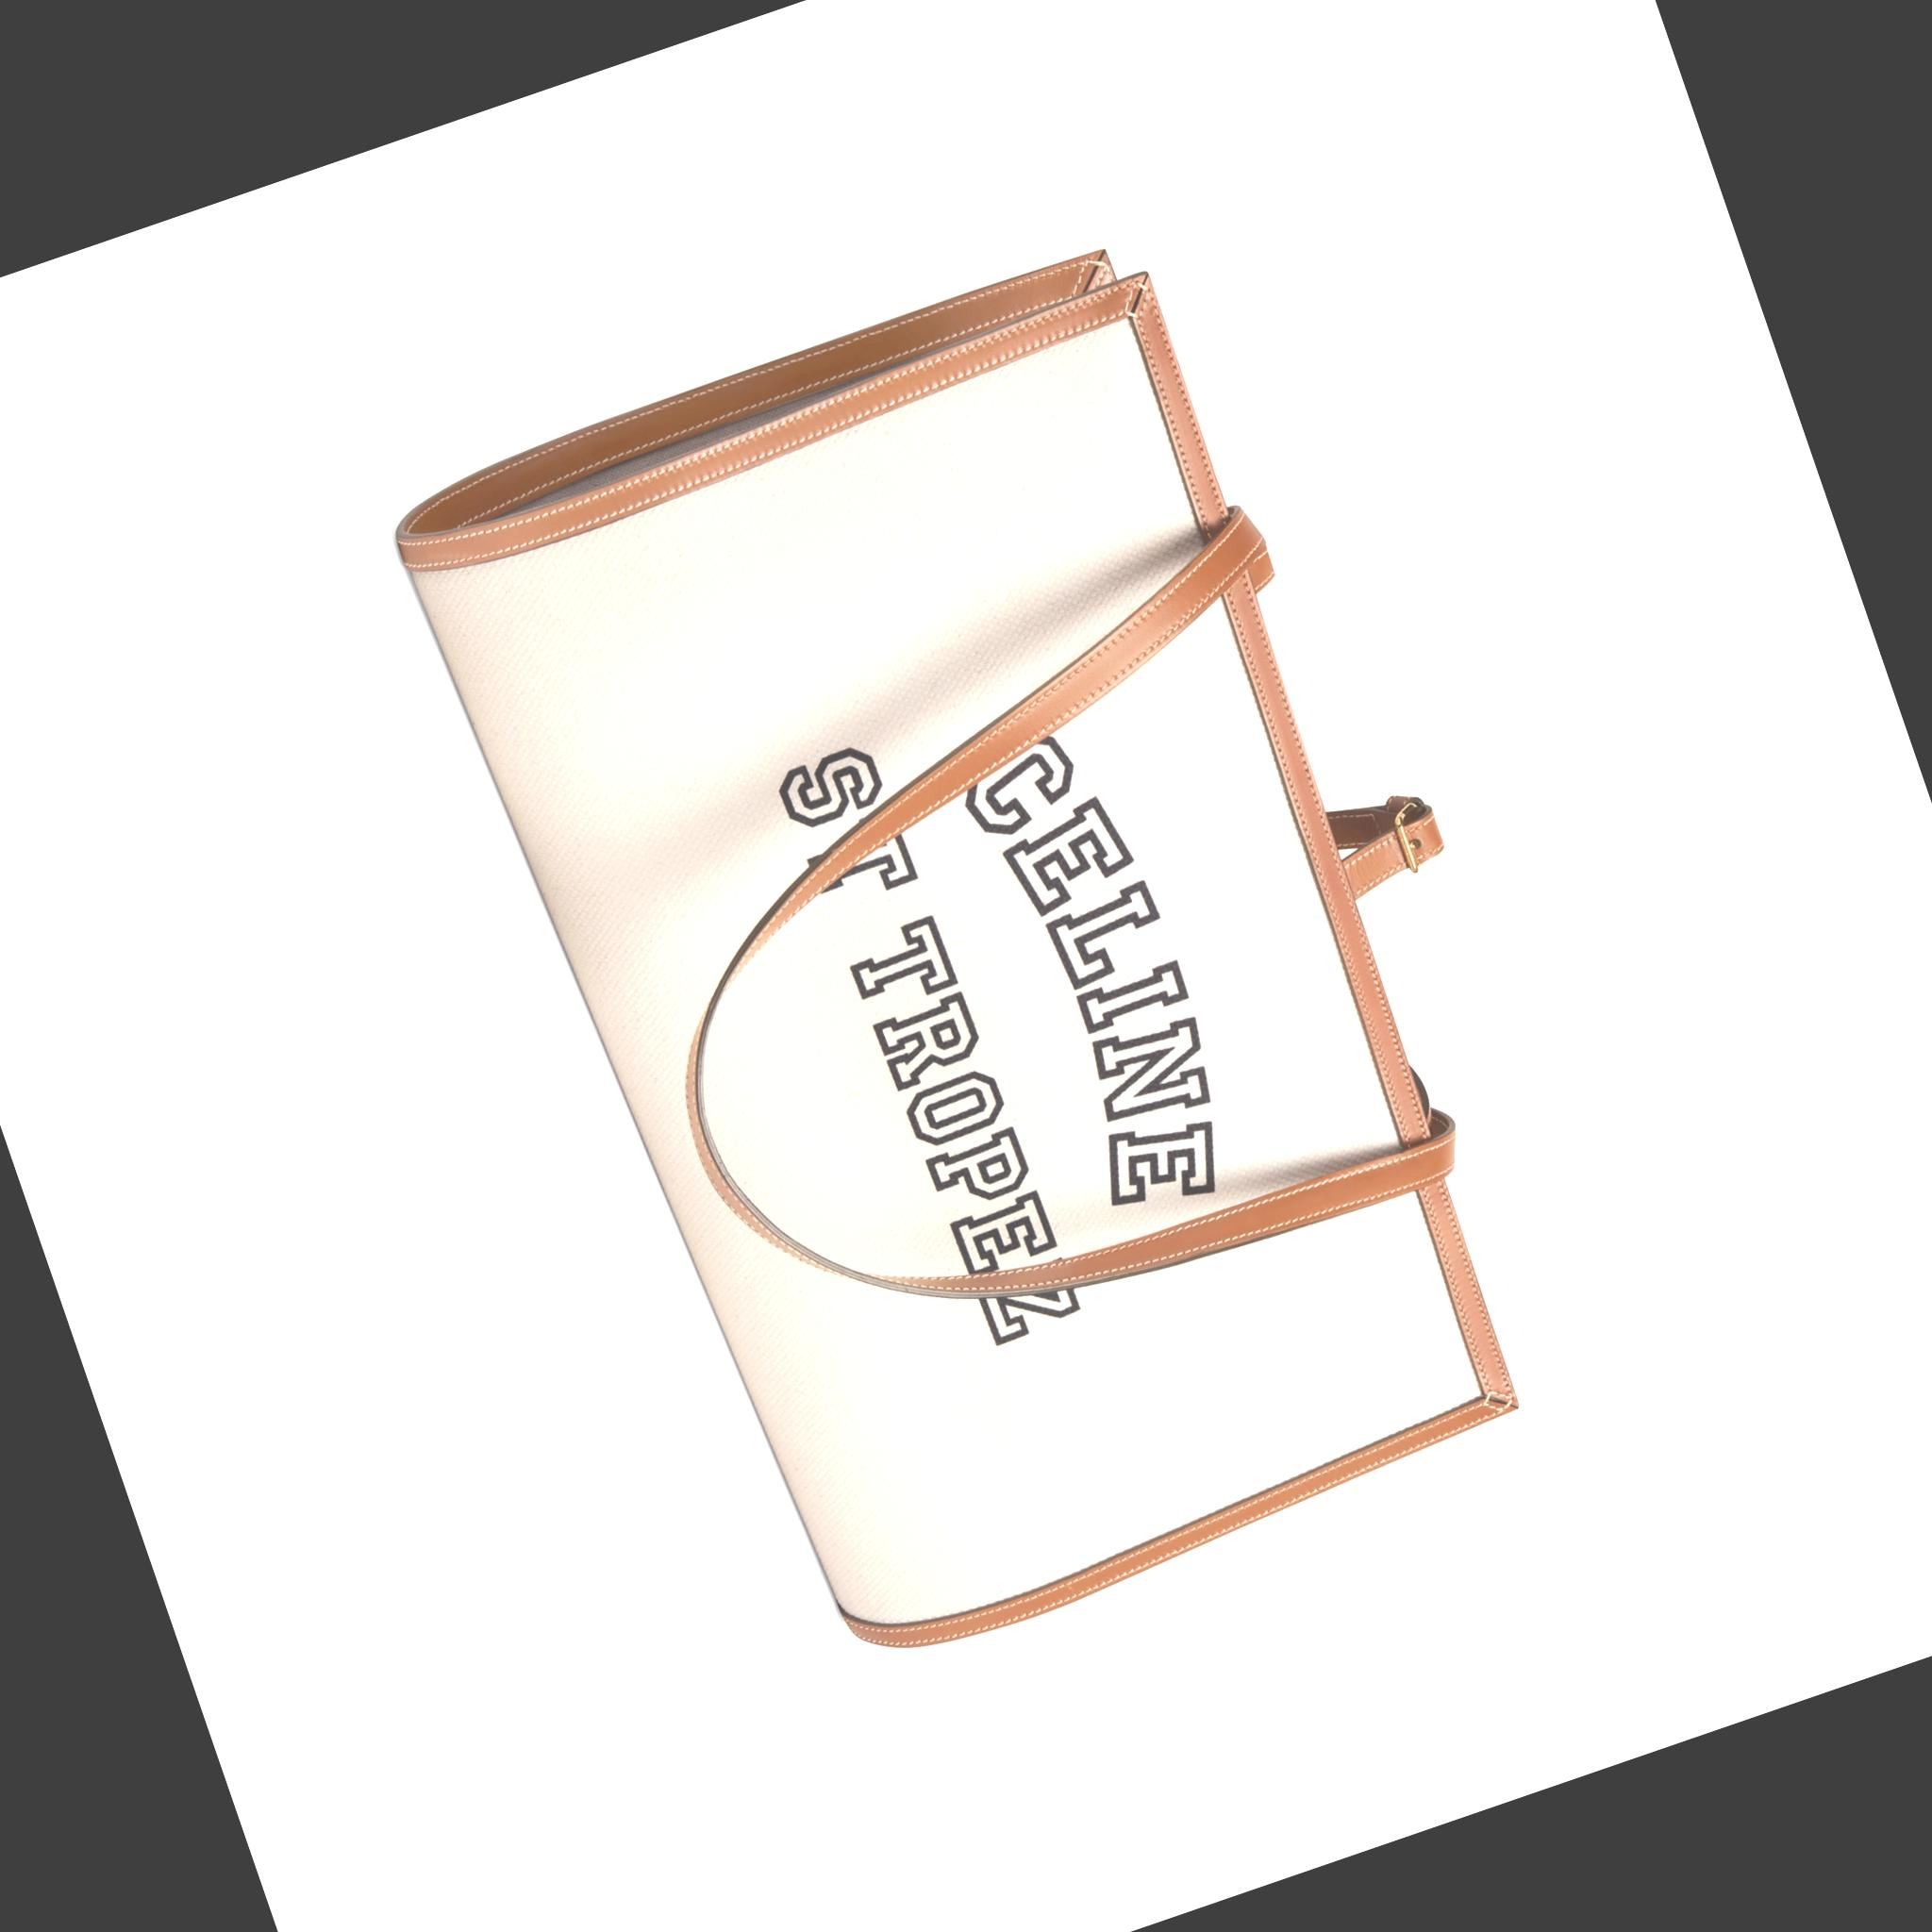CELINE: (957, 709, 1256, 1223)
